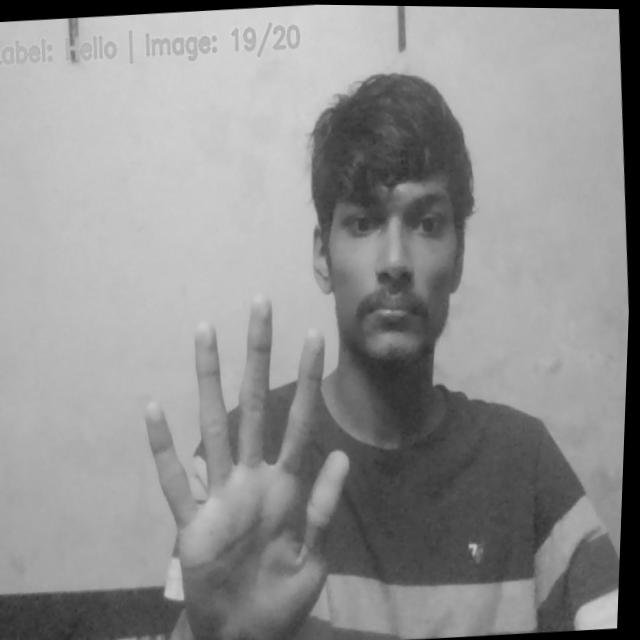Hello: (131, 286, 373, 640)
